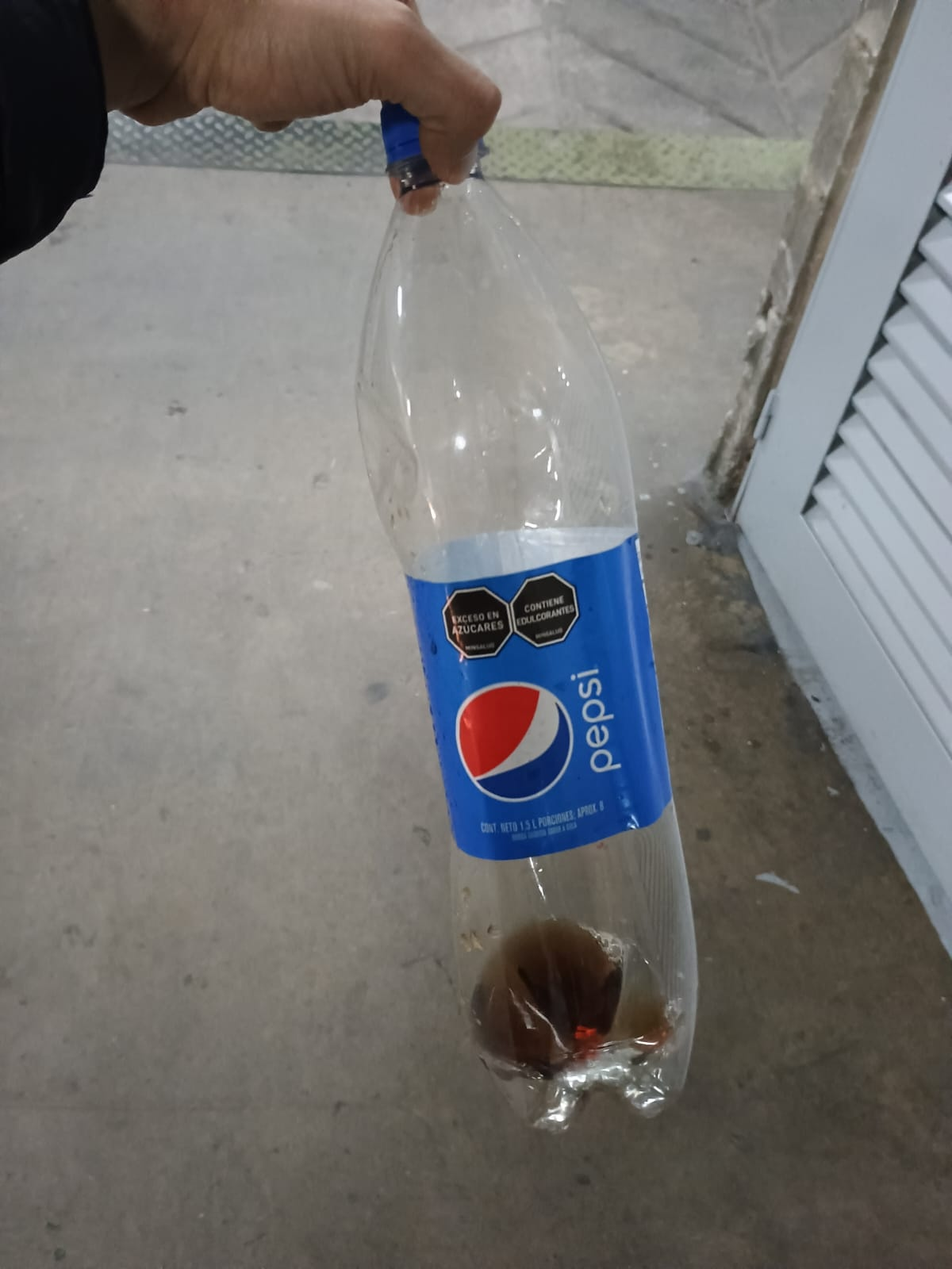Plastico: (358, 101, 703, 1129)
